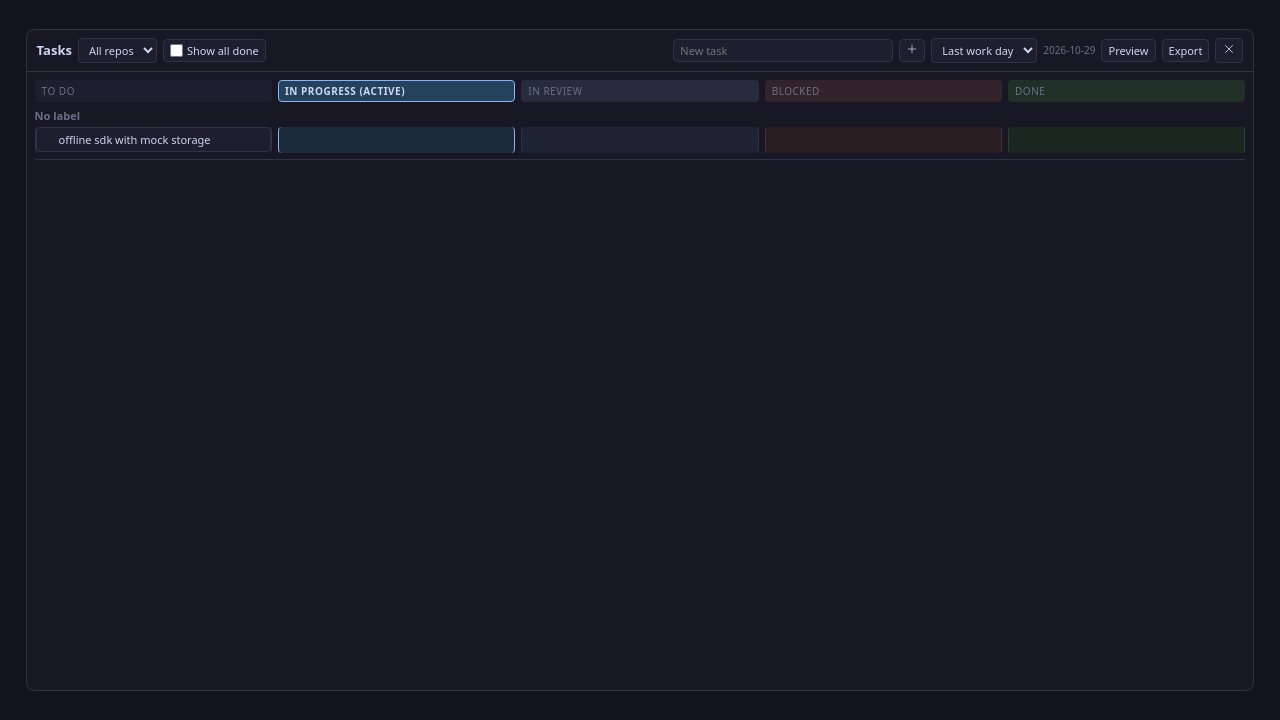
Test: creating a task opens its detail view › opens the new task when the add button is clicked
This screenshot has width=1280, height=720.
Expected: the text "offline sdk with mock storage" is shown, x1=59 y1=132 x2=211 y2=147
Step 1. Click the button "offline sdk with mock storage" → (153, 139), box x1=36 y1=127 x2=271 y2=152
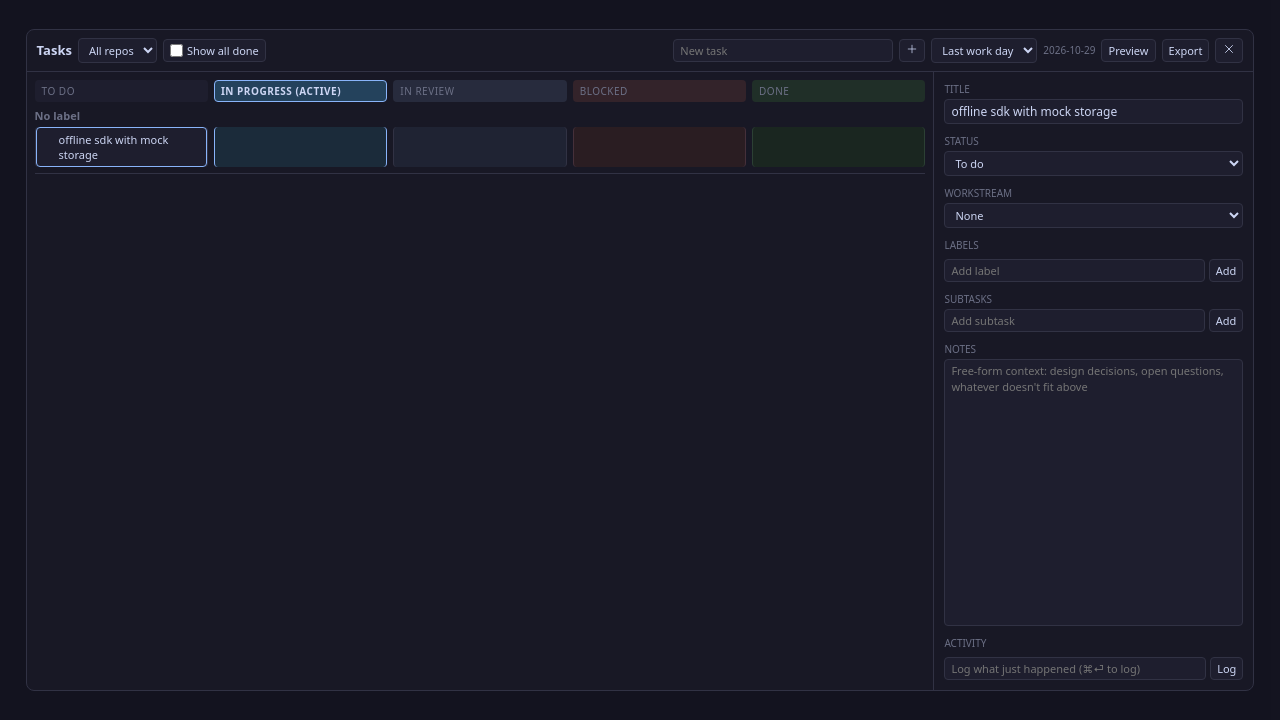
Expected: the field with test id "detail-title" holds "offline sdk with mock storage", x1=944 y1=99 x2=1243 y2=124
Step 2. Type "ship the devlog page" into the field with test id "new-task-input" → (783, 50), box x1=673 y1=39 x2=893 y2=62
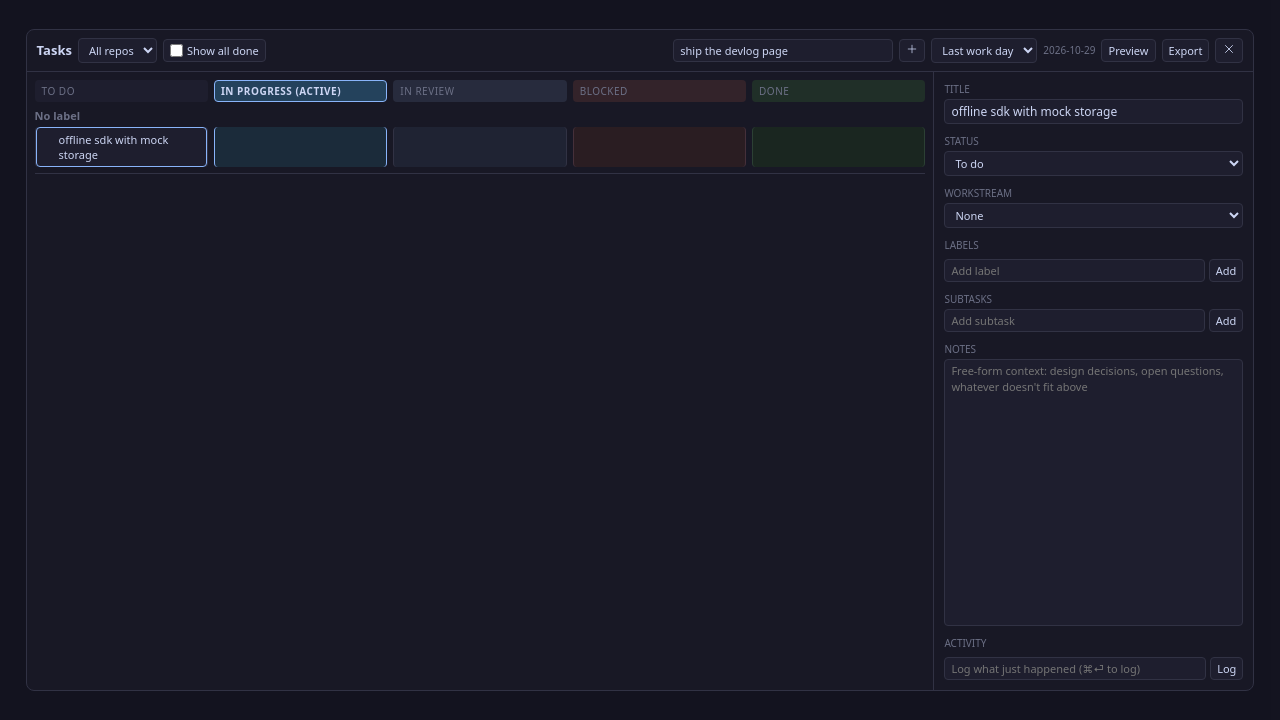
Step 3. Click the button with test id "new-task-submit" → (912, 50), box x1=899 y1=39 x2=925 y2=62
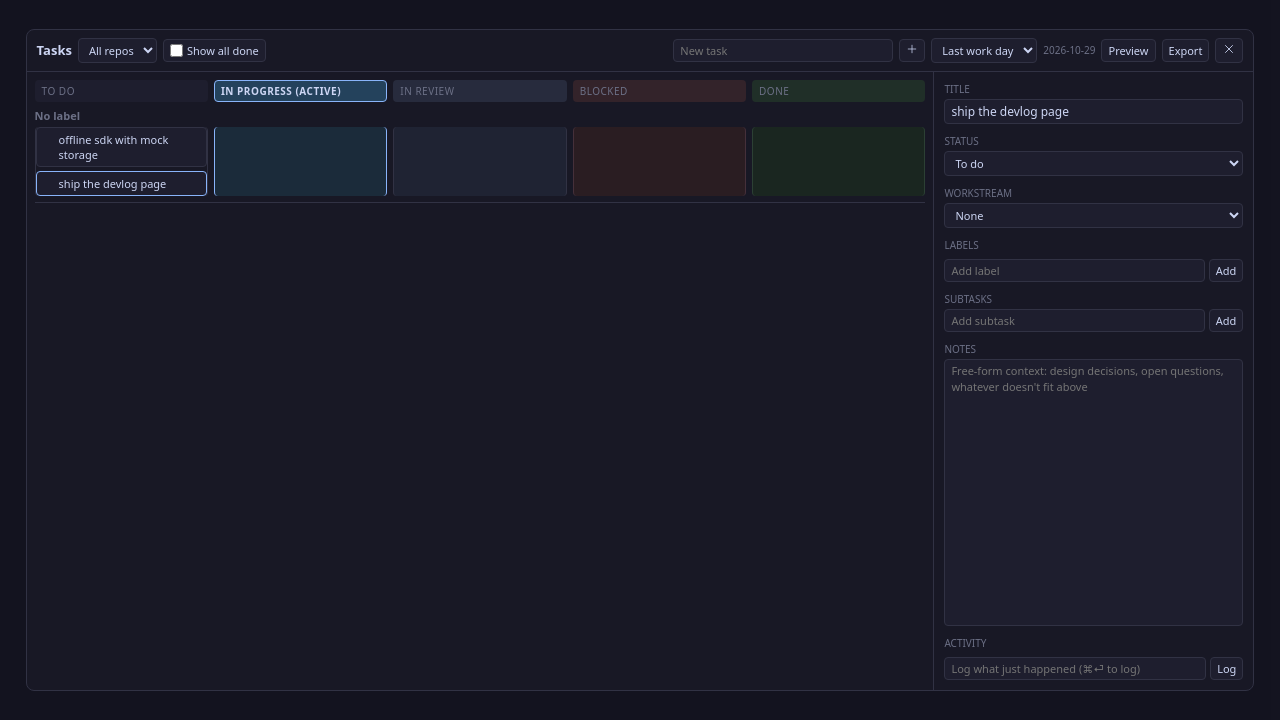
Expected: the text "ship the devlog page" is shown, x1=59 y1=176 x2=166 y2=191
